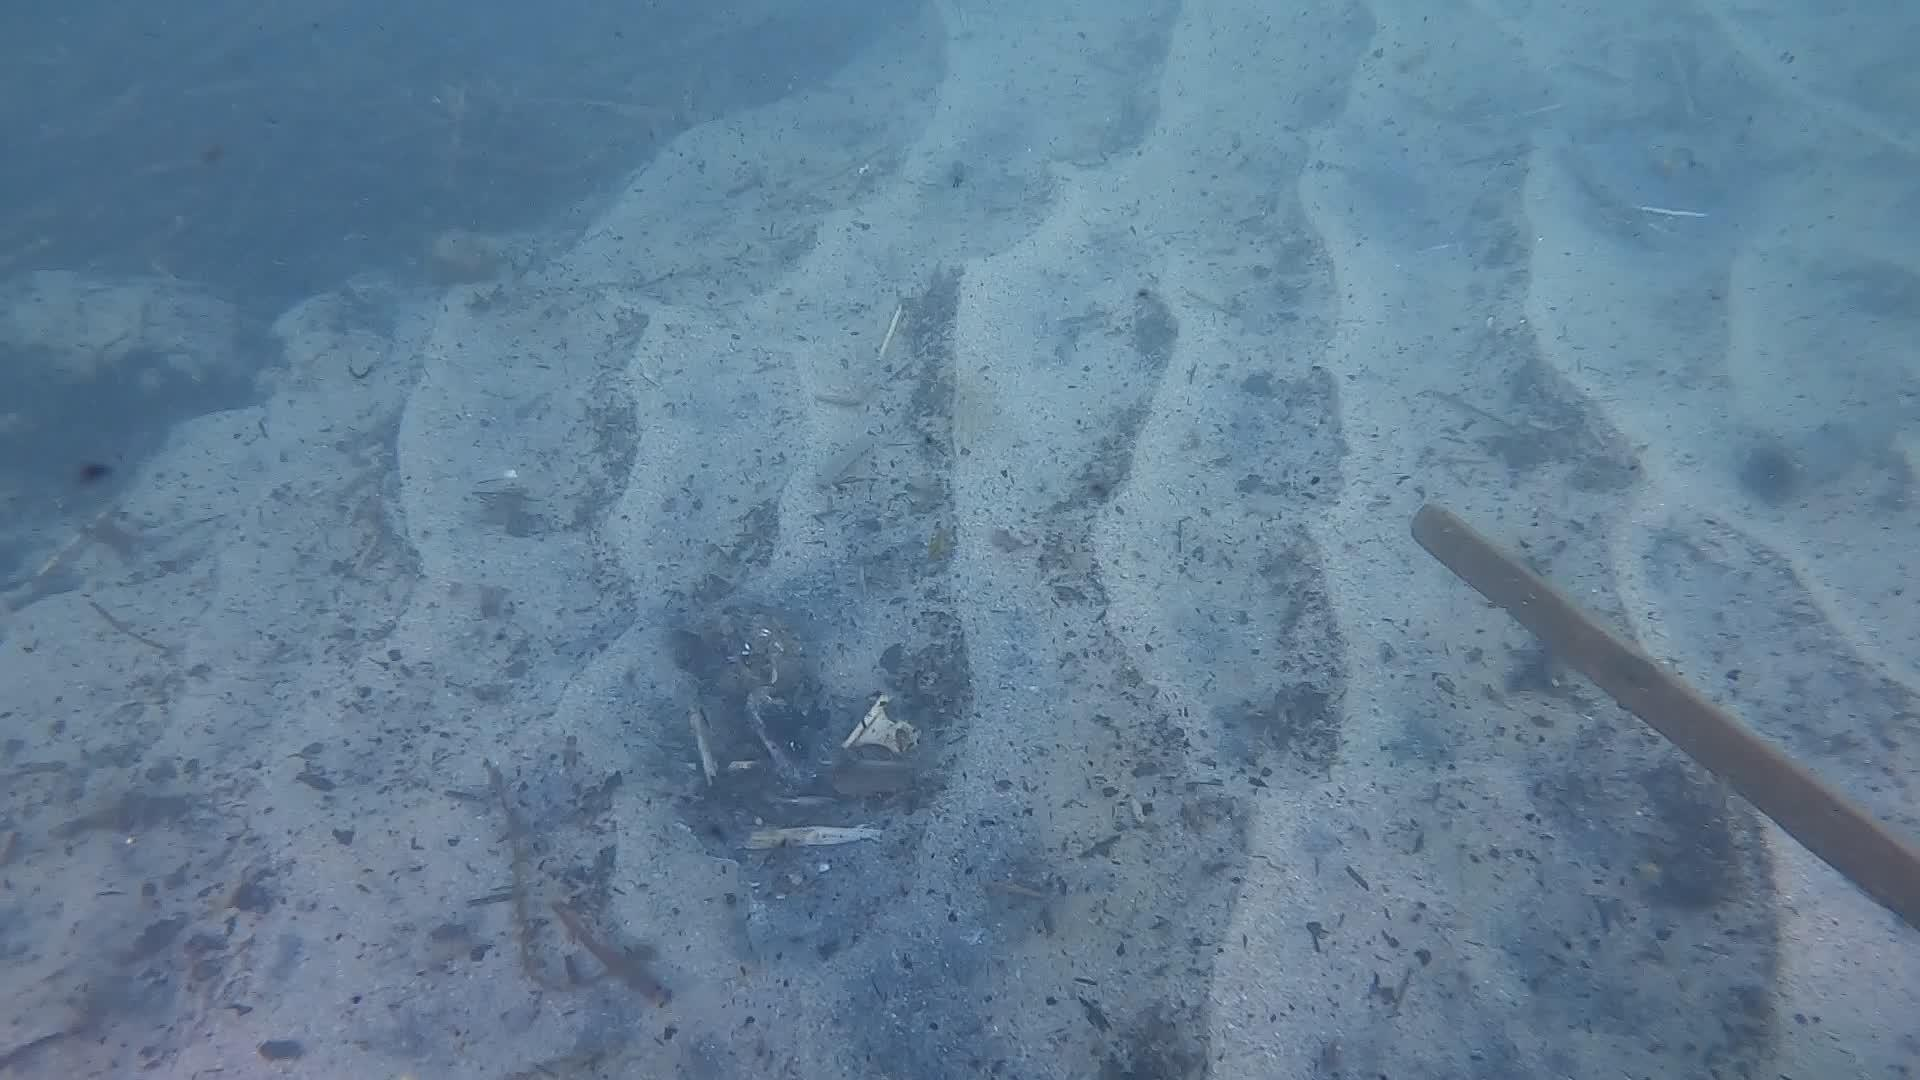wood: (1415, 508, 1920, 926)
